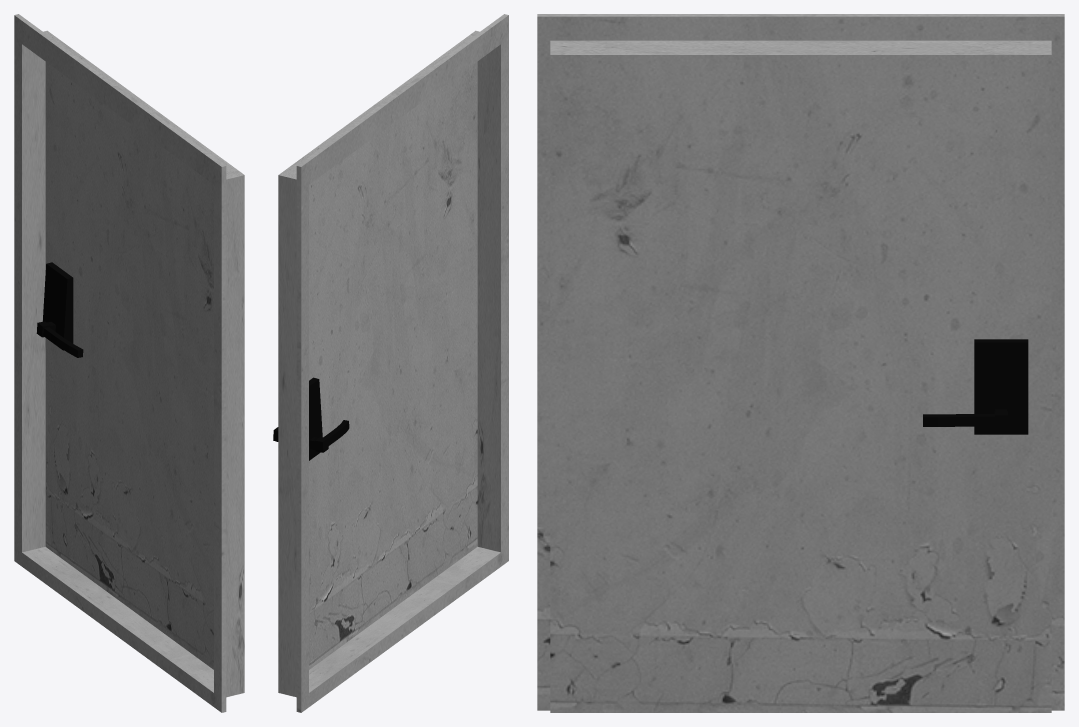
The model's file is Eden_HouseDoor.fbx.
3 views of the same model, side by side, from view 1: azimuth 30°, elevation 25°; view 2: azimuth 150°, elevation 25°; view 3: azimuth 270°, elevation 25° (orthographic). The views are drawn at different scales.
Parts seen in each view (by area): view 1: Eden_Housedoor; view 2: Eden_Housedoor; view 3: Eden_Housedoor.
Part boxes in pixels (box(x1,y1,x2,y2)): Eden_Housedoor: box(14, 14, 244, 712); Eden_Housedoor: box(273, 14, 508, 712); Eden_Housedoor: box(537, 14, 1064, 712).
Bounding box in the file's own units: 0.00667 × 0.0689 × 0.0475.
2 materials, 1 textured.
